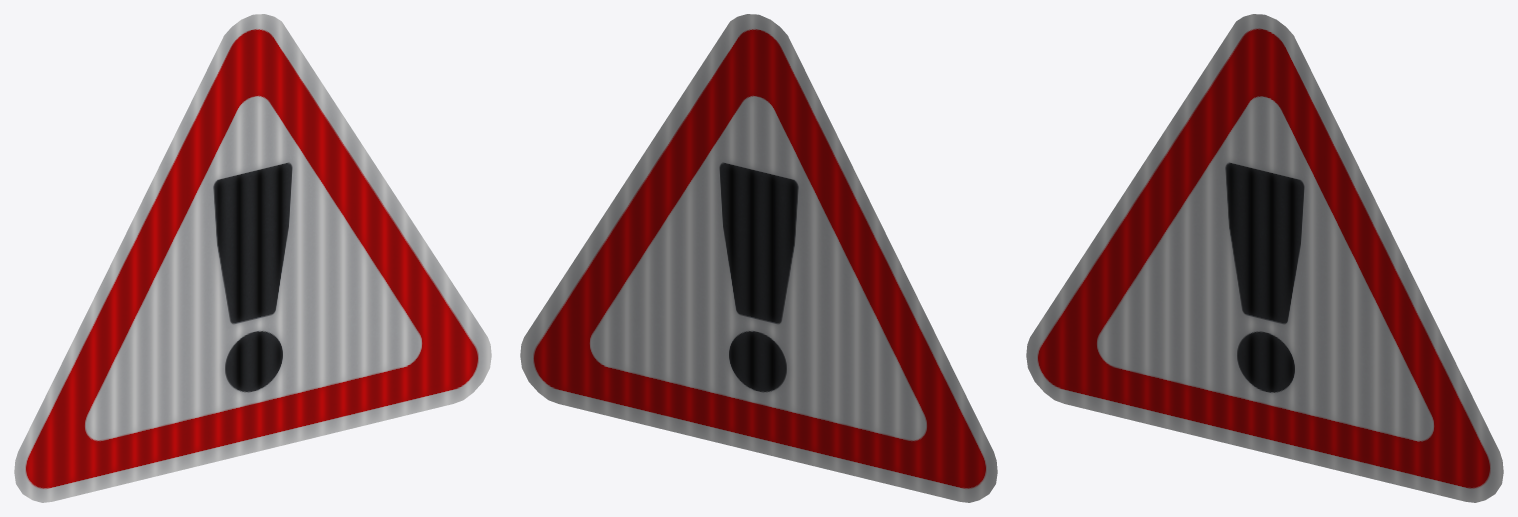
Rendered from Sign_Hazard.fbx.
The picture shows the model from 3 angles, left to right: view 1: azimuth 30°, elevation 25°; view 2: azimuth 150°, elevation 25°; view 3: azimuth 330°, elevation 25°; orthographic projection.
Visible parts, largest first — view 1: Polygonal_Geometry; view 2: Polygonal_Geometry; view 3: Polygonal_Geometry.
Part boxes in pixels (bbox=[...]): Polygonal_Geometry: bbox=[14, 14, 491, 502]; Polygonal_Geometry: bbox=[520, 14, 997, 502]; Polygonal_Geometry: bbox=[1026, 14, 1503, 502].
Size of the model in its own units: 3.81 by 3.34 by 0.
